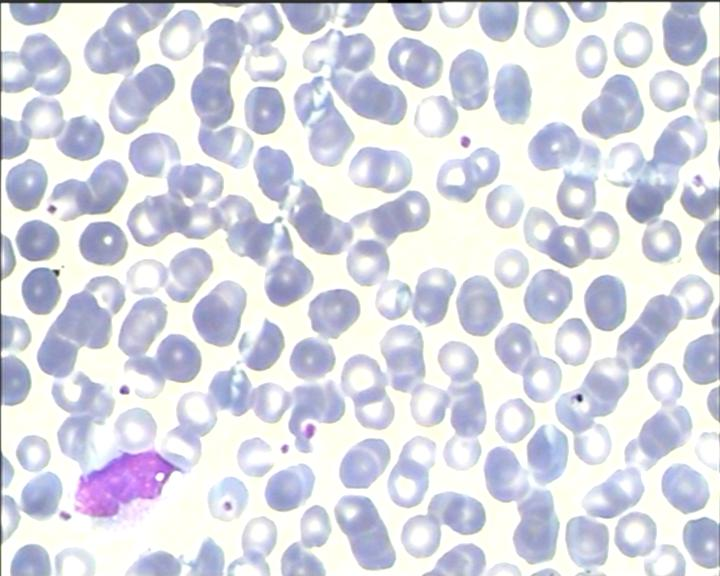mono: (59, 444, 180, 530)
